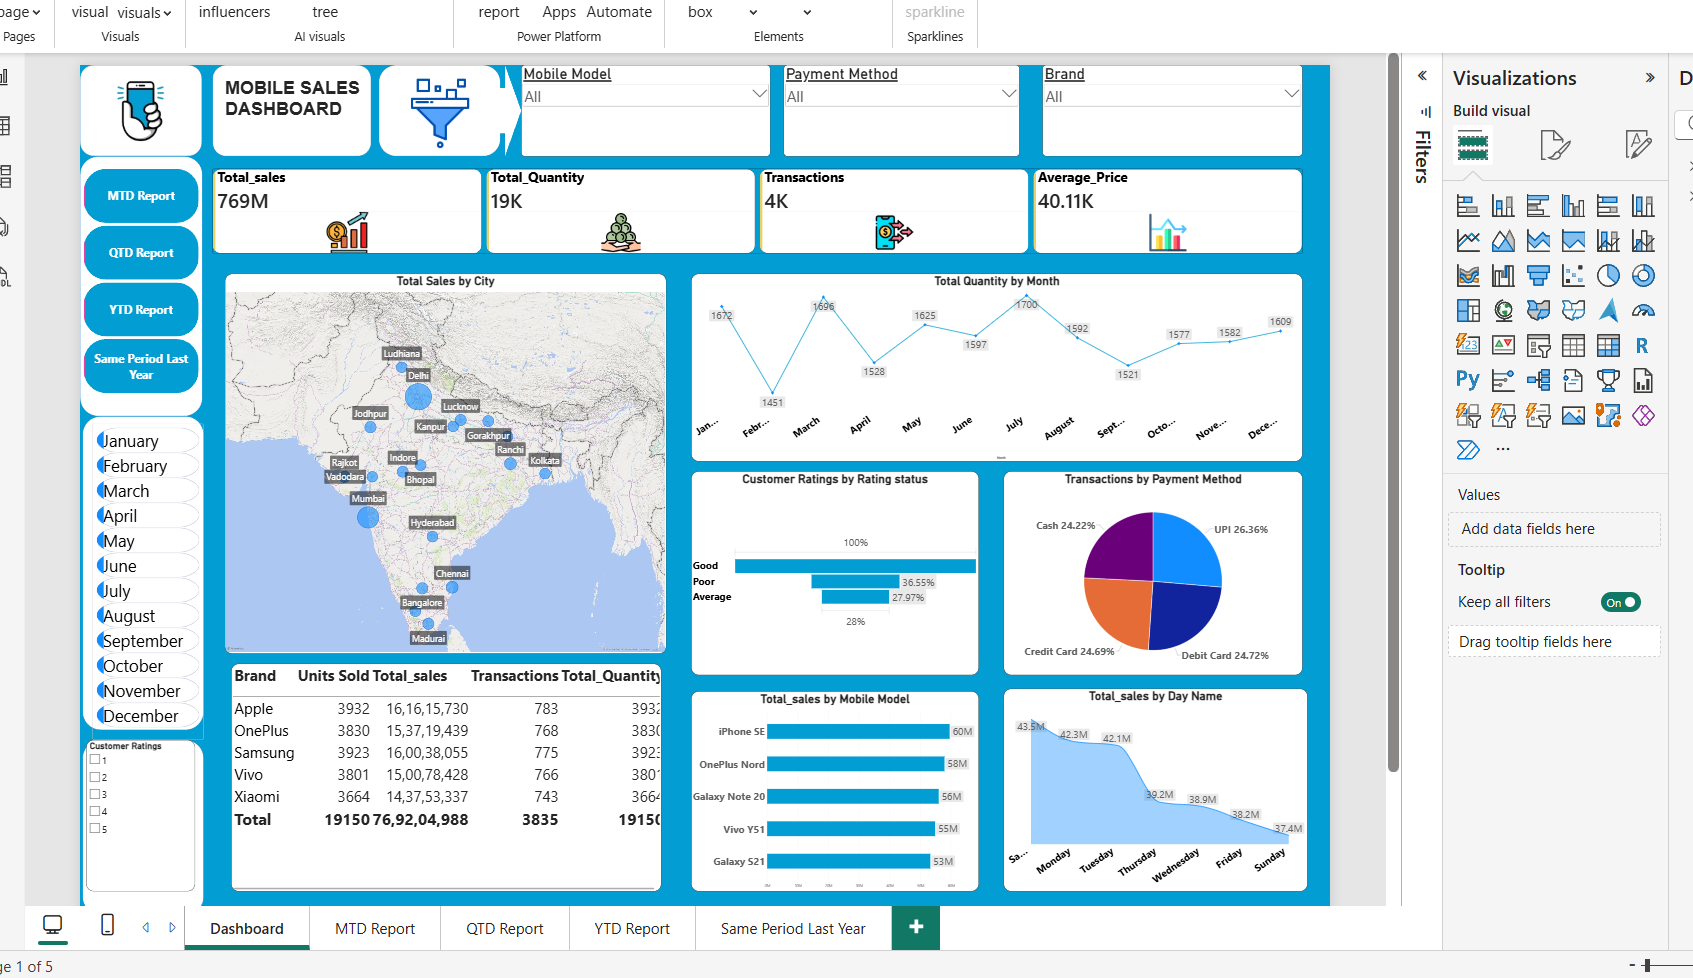

What the dashboard file says about the page in this screenshot:
{"tool":"powerbi","page":{"name":"Dashboard","canvas":[5000,4000],"ordinal":0},"visuals":[{"type":"shape","box":[0,0,487.8,364.5],"z":0},{"type":"shape","box":[0,365,490,1040],"z":1000},{"type":"image","box":[26.8,26.8,434.2,310.9],"z":2000},{"type":"shape","box":[10,1405,485,1255],"z":3000},{"type":"listSlicer","fields":{"Values":["Custom Calender.Date.Variation.Date Hierarchy.Month"]},"box":[50,1435,445,1265],"z":4000},{"type":"cardVisual","fields":{"Data":["Mobile Sales Data.Total_sales","Mobile Sales Data.Total_Quantity","Mobile Sales Data.Transactions","Mobile Sales Data.Average_Price"]},"box":[530,415,4360,340],"z":5000},{"type":"slicer","fields":{"Values":["Mobile Sales Data.Mobile Model"]},"box":[1765.2,0,995.7,365.2],"z":6000},{"type":"slicer","fields":{"Values":["Mobile Sales Data.Payment Method"]},"box":[2813,0,943.5,365.2],"z":7000},{"type":"shape","box":[1195.7,0,487,365.2],"z":8000},{"type":"slicer","fields":{"Values":["Mobile Sales Data.Brand"]},"box":[3850,0,1040,365],"z":9000},{"type":"image","box":[1243.5,52.2,391.3,287],"z":10000},{"type":"shape","box":[1634.8,0,130.4,365.2],"z":11000},{"type":"shape","box":[530.4,0,634.8,365.2],"z":12000},{"type":"textbox","box":[578.3,52.2,556.5,287],"z":14000},{"type":"map","title":"Total Sales by City","fields":{"Category":["Mobile Sales Data.City"],"Size":["Mobile Sales Data.Total_sales"]},"box":[580,835,1765,1520],"z":15000},{"type":"lineChart","title":"Total Quantity by Month","fields":{"Category":["Custom Calender.Date.Variation.Date Hierarchy.Month"],"Y":["Mobile Sales Data.Total_Quantity"]},"box":[2445,835,2445,750],"z":16000},{"type":"funnel","title":"Customer Ratings by Rating status","fields":{"Y":["CountNonNull(Mobile Sales Data.Customer Ratings)"],"Category":["Mobile Sales Data.Rating status"]},"box":[2445,1625,1150,815],"z":17000},{"type":"pieChart","title":"Transactions by Payment Method","fields":{"Category":["Mobile Sales Data.Payment Method"],"Y":["Mobile Sales Data.Transactions"]},"box":[3695,1625,1195,815],"z":18000},{"type":"clusteredBarChart","fields":{"Y":["Mobile Sales Data.Total_sales"],"Category":["Mobile Sales Data.Mobile Model"]},"box":[2445,2505,1150,800],"z":19000},{"type":"areaChart","fields":{"Y":["Mobile Sales Data.Total_sales"],"Category":["Custom Calender.Day Name"]},"box":[3695,2495,1215,810],"z":20000},{"type":"shape","box":[10,2700,485,700],"z":21000},{"type":"tableEx","fields":{"Values":["Mobile Sales Data.Brand","Sum(Mobile Sales Data.Units Sold)","Mobile Sales Data.Total_sales","Mobile Sales Data.Transactions","Mobile Sales Data.Total_Quantity"]},"box":[605,2395,1720,910],"z":22000},{"type":"slicer","fields":{"Values":["Mobile Sales Data.Customer Ratings"]},"box":[25,2700,435,605],"z":23000},{"type":"pageNavigator","box":[15,415,460,900],"z":24000}]}

Visuals, with their boxes on the page's 5000x4000 design canvas (x1, y1, x2, y2). These are canvas units, not pixel positions in the 1693x978 screenshot, which may show the page scaled, cropped or inside an application window:
shape: (left=0, top=0, right=488, bottom=364)
shape: (left=0, top=365, right=490, bottom=1405)
image: (left=27, top=27, right=461, bottom=338)
shape: (left=10, top=1405, right=495, bottom=2660)
listSlicer - Custom Calender.Date.Variation.Date Hierarchy.Month: (left=50, top=1435, right=495, bottom=2700)
cardVisual - Mobile Sales Data.Total_sales x Mobile Sales Data.Total_Quantity: (left=530, top=415, right=4890, bottom=755)
slicer - Mobile Sales Data.Mobile Model: (left=1765, top=0, right=2761, bottom=365)
slicer - Mobile Sales Data.Payment Method: (left=2813, top=0, right=3756, bottom=365)
shape: (left=1196, top=0, right=1683, bottom=365)
slicer - Mobile Sales Data.Brand: (left=3850, top=0, right=4890, bottom=365)
image: (left=1244, top=52, right=1635, bottom=339)
shape: (left=1635, top=0, right=1765, bottom=365)
shape: (left=530, top=0, right=1165, bottom=365)
textbox: (left=578, top=52, right=1135, bottom=339)
"Total Sales by City" map: (left=580, top=835, right=2345, bottom=2355)
"Total Quantity by Month" lineChart: (left=2445, top=835, right=4890, bottom=1585)
"Customer Ratings by Rating status" funnel: (left=2445, top=1625, right=3595, bottom=2440)
"Transactions by Payment Method" pieChart: (left=3695, top=1625, right=4890, bottom=2440)
clusteredBarChart - Mobile Sales Data.Total_sales x Mobile Sales Data.Mobile Model: (left=2445, top=2505, right=3595, bottom=3305)
areaChart - Mobile Sales Data.Total_sales x Custom Calender.Day Name: (left=3695, top=2495, right=4910, bottom=3305)
shape: (left=10, top=2700, right=495, bottom=3400)
tableEx - Mobile Sales Data.Brand x Sum(Mobile Sales Data.Units Sold): (left=605, top=2395, right=2325, bottom=3305)
slicer - Mobile Sales Data.Customer Ratings: (left=25, top=2700, right=460, bottom=3305)
pageNavigator: (left=15, top=415, right=475, bottom=1315)
